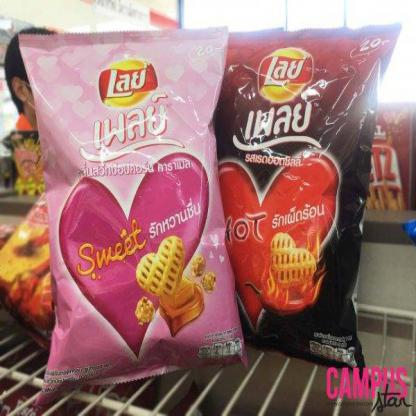potatochip: (157, 11, 400, 374), (20, 21, 247, 388)
